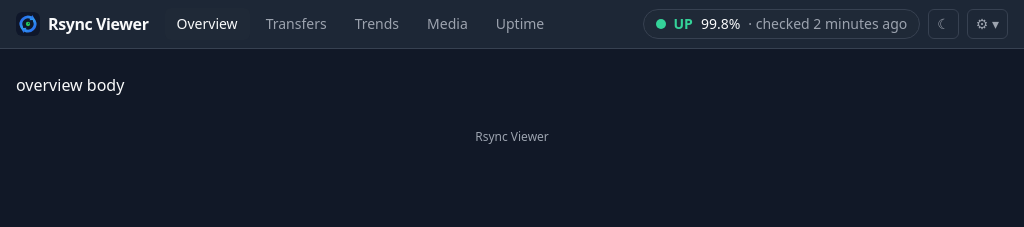
Shell (AC-001, AC-023) › hides operator/admin destinations from viewers and shows the user
The image size is (1024, 227).
Click the button named "Settings menu".
click(987, 24)  # box top-left (967, 9), bottom-right (1008, 39)
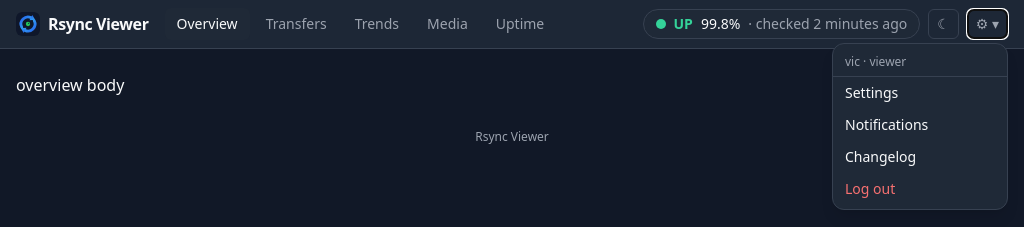
Expected: the menu shows "vic · viewer", top-left (832, 43), bottom-right (1008, 210)
